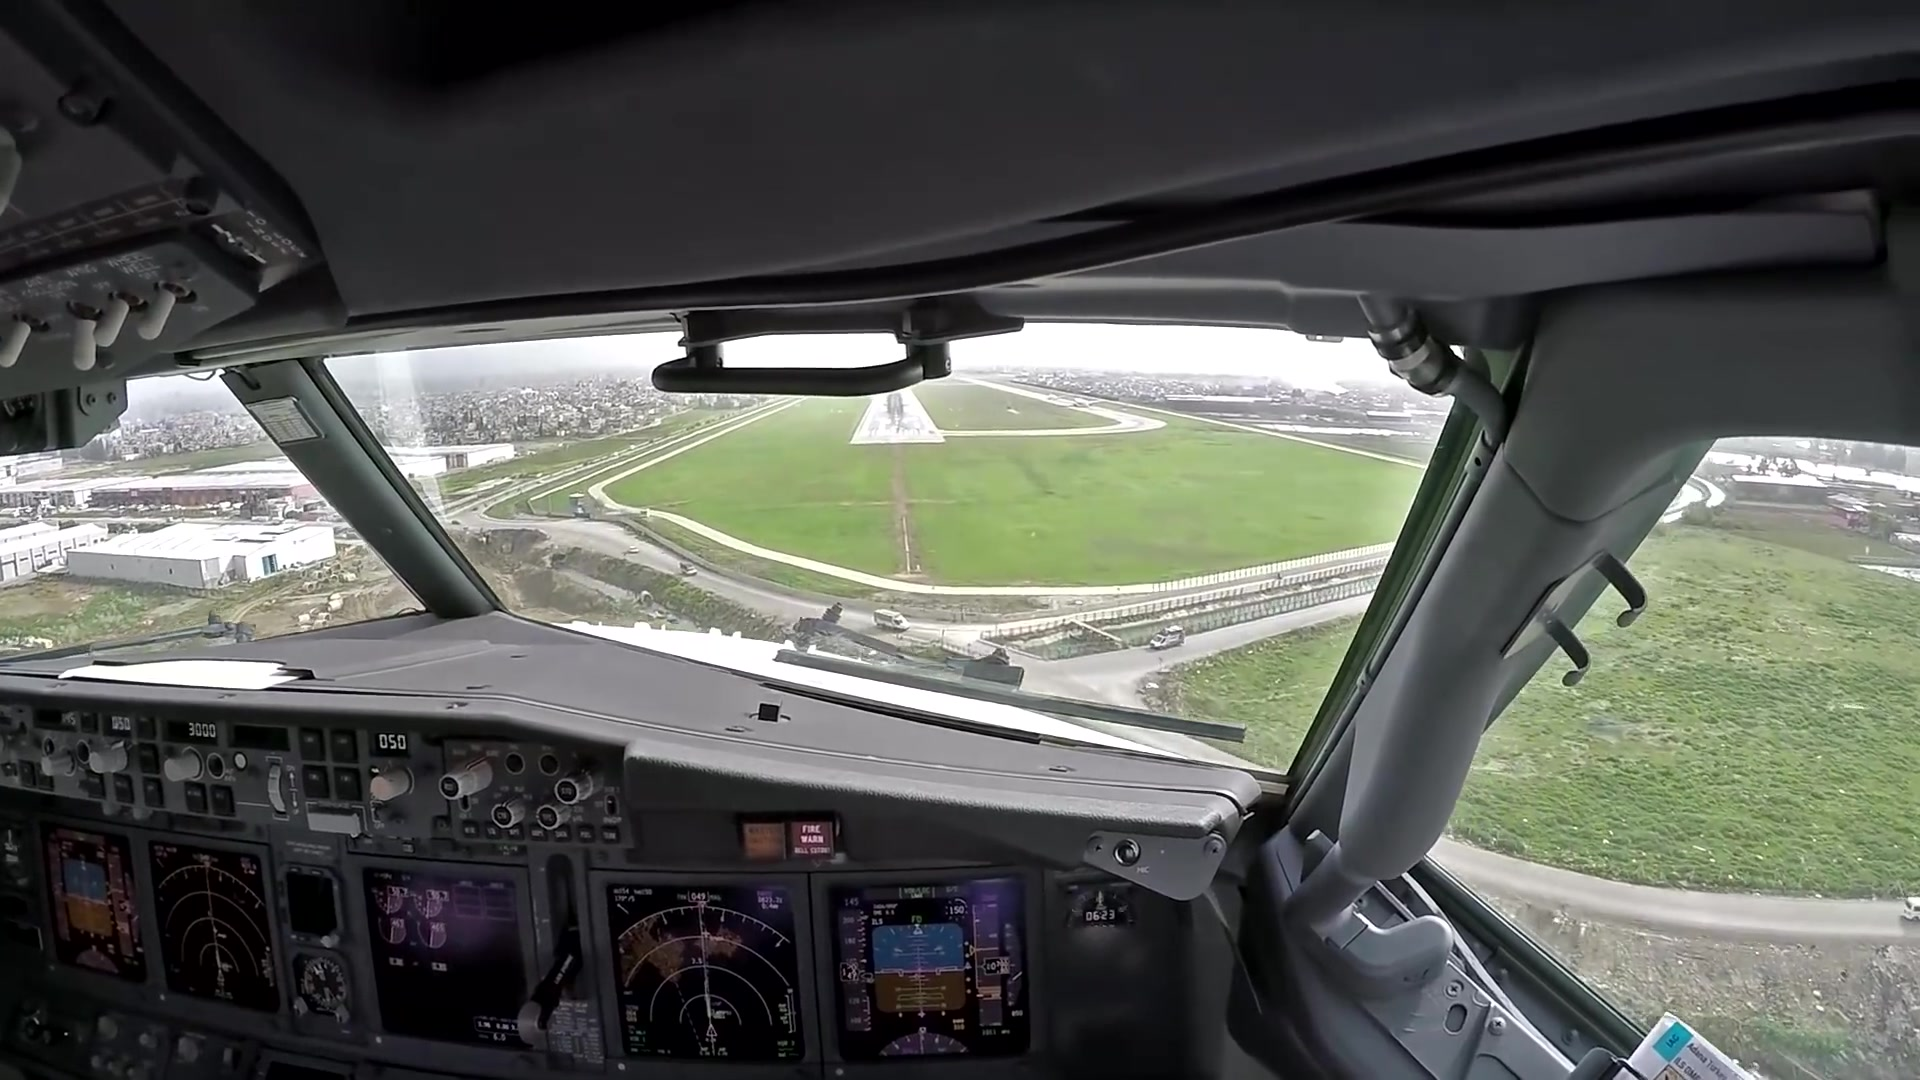entrance: (852, 425, 942, 439)
runway: (848, 384, 949, 446)
